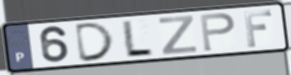6: (39, 25, 72, 64)
D: (74, 21, 117, 64)
F: (241, 9, 274, 49)
L: (121, 19, 155, 57)
P: (198, 12, 237, 53)
Z: (157, 14, 198, 56)
